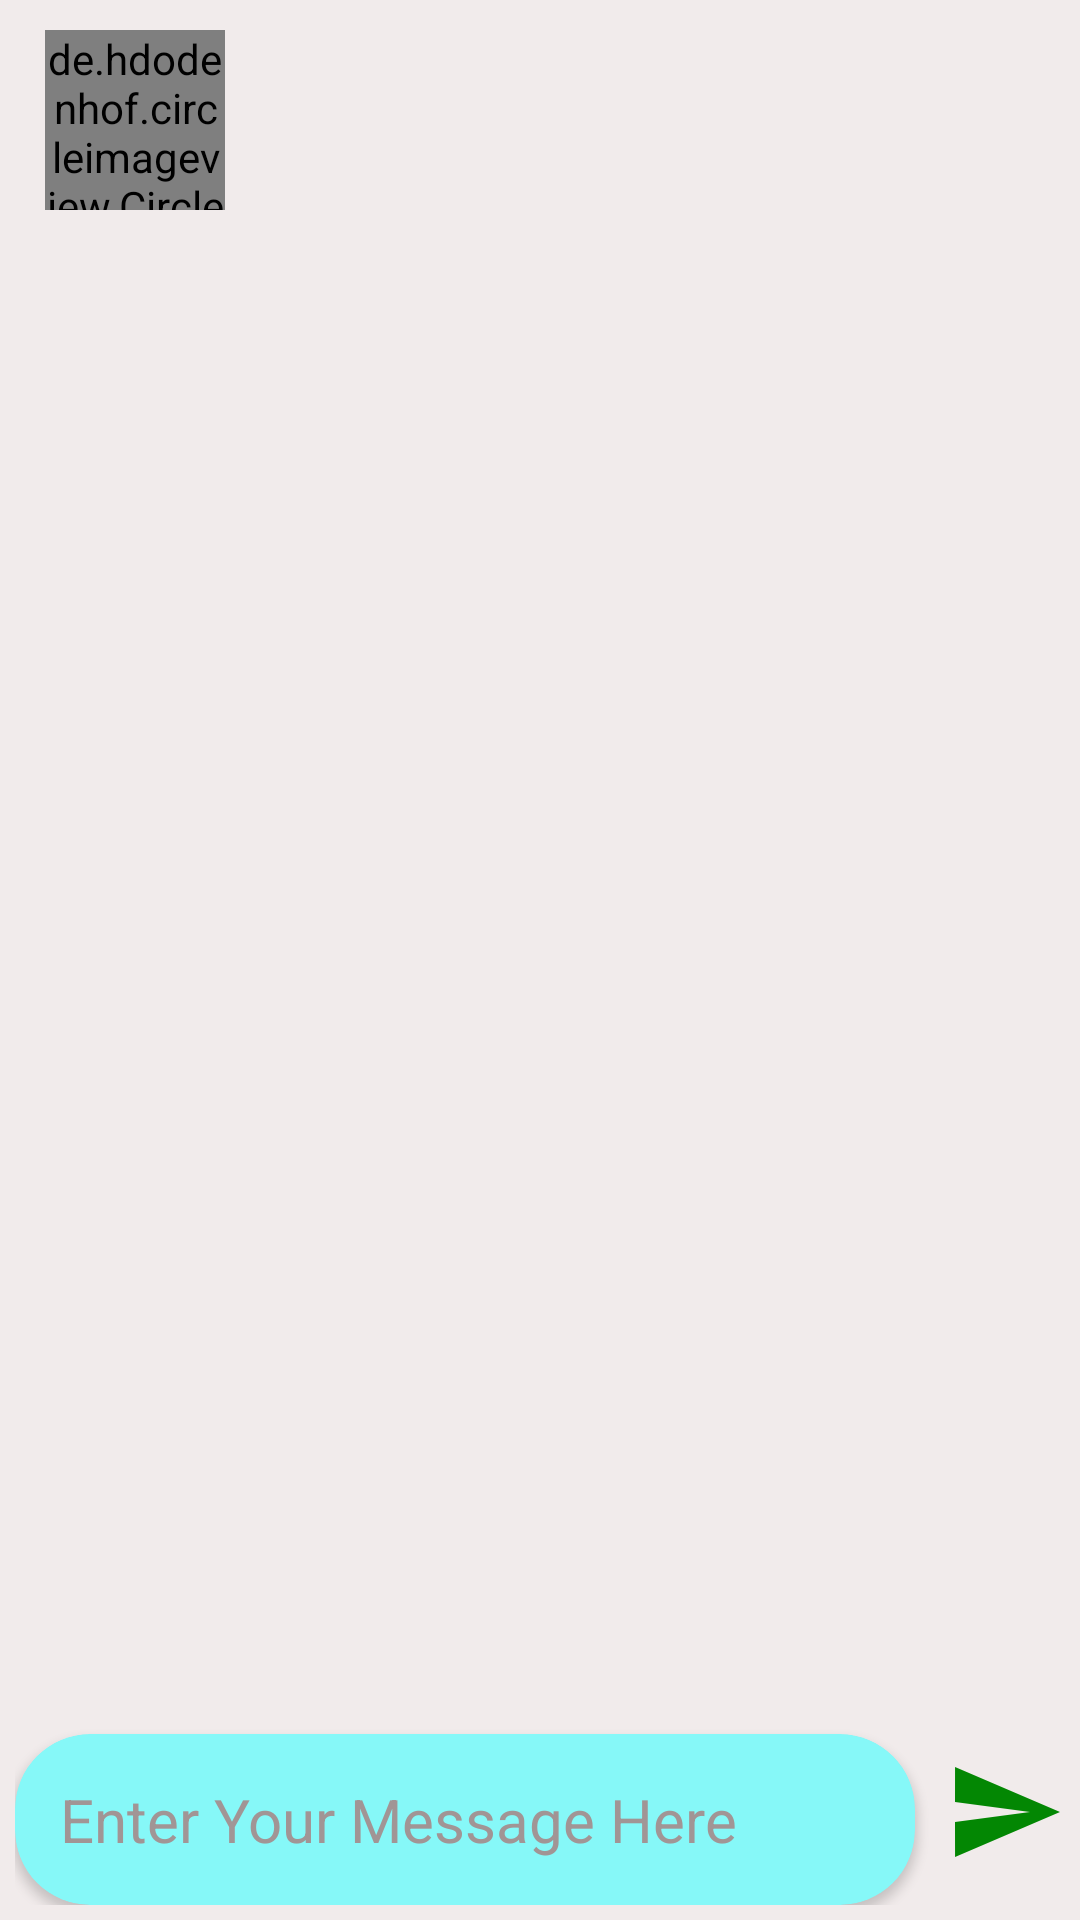

Named icons in this screenshot (1080px×1920px) and their centers, (x,y):
send: (1007,1812)
